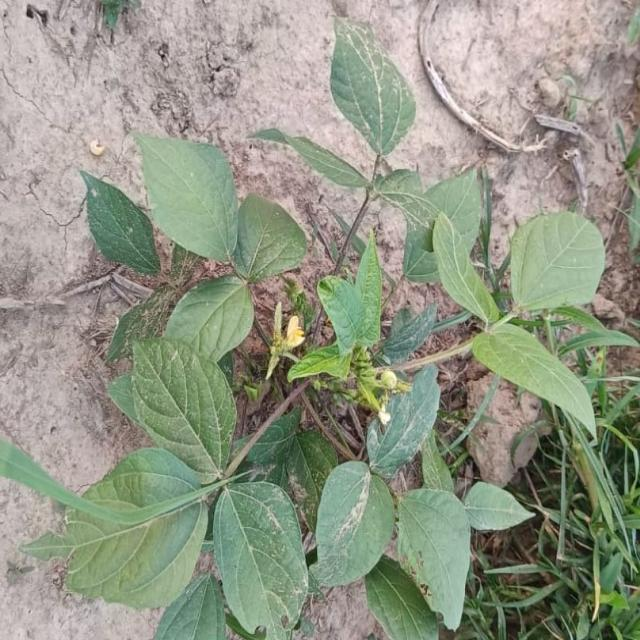plant: (49, 18, 633, 639), (59, 135, 530, 640), (259, 19, 605, 433), (84, 174, 160, 276), (86, 176, 160, 275)
